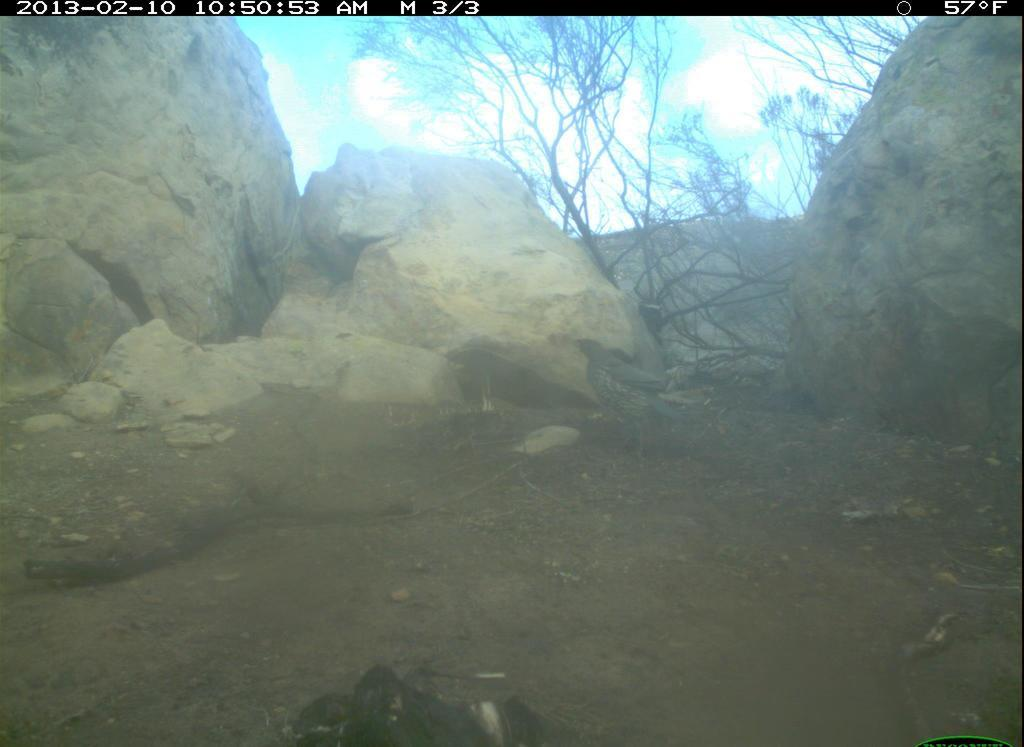bird: (546, 328, 715, 465)
